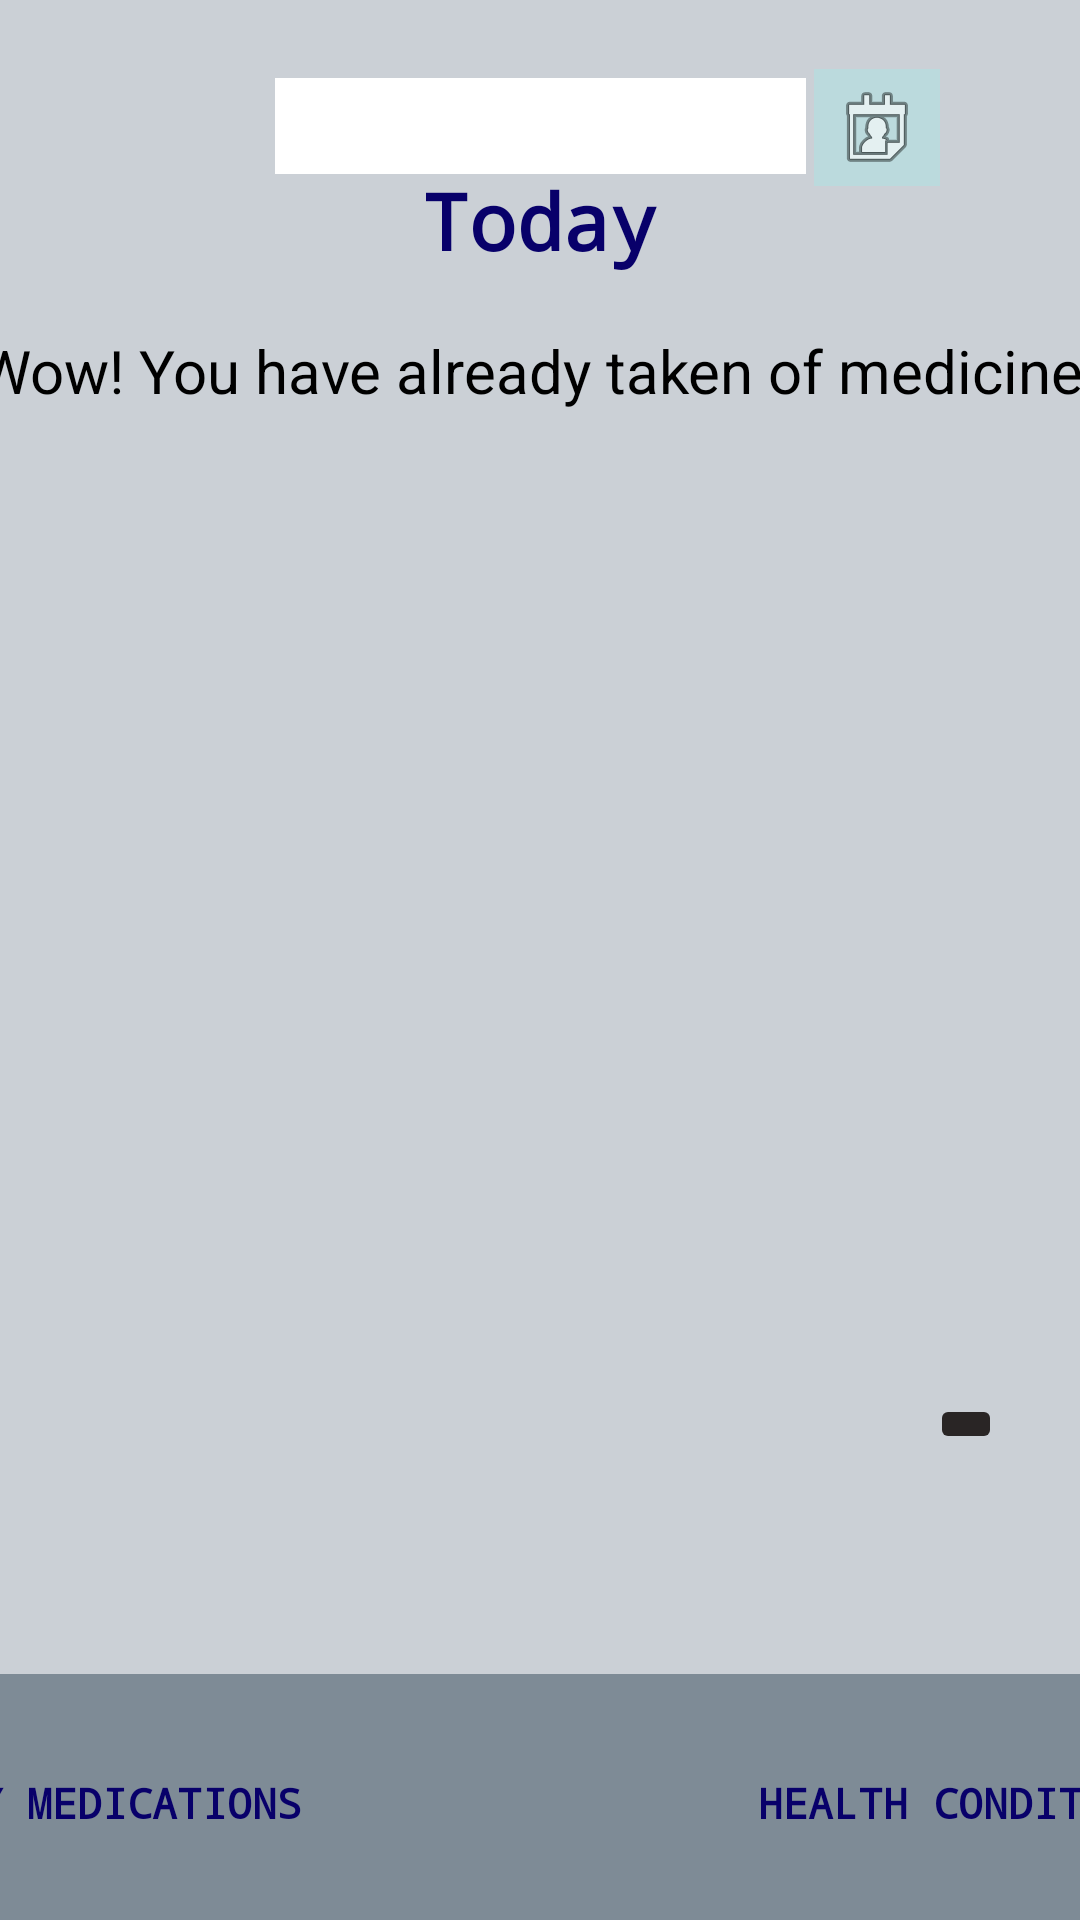

Named icons in this screenshot (1080×1920) and their centers, (x,y):
calendar: (877,127)
